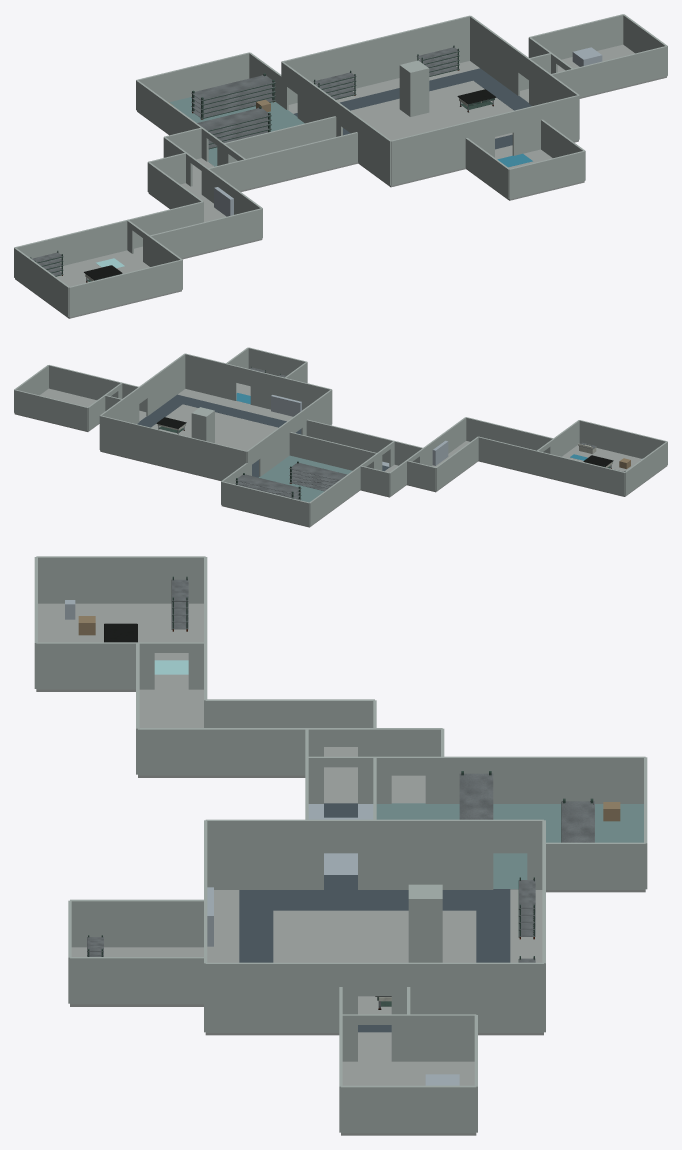
File: ResearchWing_Stage01_OpenTop.fbx
3 views of the same model, one above another, from view 1: azimuth 30°, elevation 25°; view 2: azimuth 150°, elevation 25°; view 3: azimuth 270°, elevation 25° (orthographic). The views are drawn at different scales.
Parts seen in each view (by area): view 1: Wall_z30_40_60, A4_Central_Floor, Wall_z0_0_12, Wall_z16_28_40, Wall_z10_40_48, Wall_z6_12_24, Wall_z18_64_74, Wall_z36_28_40, Wall_z10_0_12, Wall_z2_48_56, A3S_ShelfB, Wall_z26_64_74 (+34 smaller); view 2: Wall_z30_40_60, A4_Central_Floor, Wall_z36_28_40, Wall_z10_0_12, Wall_z20_28_40, Wall_z0_0_12, Wall_z26_64_74, Wall_z18_64_74, Wall_z16_28_40, Wall_z6_12_24, Wall_z10_12_20, Wall_x28_24_36 (+31 smaller); view 3: A4_Central_Floor, Wall_x60_10_18, Wall_x28_24_36, Wall_x60_22_30, Wall_x40_20_27, Wall_x0_0_10, Wall_x40_10_16, Wall_x74_18_26, Wall_x56_2_10, Wall_x48_2_10, A1_LAB01_Floor, F03_Carpet (+32 smaller).
Boxes of the visible parts, left/top/right/bottom form: Wall_z30_40_60: left=281, top=15, right=470, bottom=104; A4_Central_Floor: left=288, top=61, right=578, bottom=187; Wall_z0_0_12: left=69, top=260, right=182, bottom=317; Wall_z16_28_40: left=245, top=132, right=357, bottom=189; Wall_z10_40_48: left=391, top=122, right=466, bottom=185; Wall_z6_12_24: left=149, top=208, right=262, bottom=258; Wall_z18_64_74: left=573, top=46, right=667, bottom=97; Wall_z36_28_40: left=136, top=52, right=249, bottom=102; Wall_z10_0_12: left=14, top=220, right=127, bottom=265; Wall_z2_48_56: left=509, top=151, right=585, bottom=199; A3S_ShelfB: left=191, top=73, right=275, bottom=119; Wall_z26_64_74: left=529, top=14, right=623, bottom=59; Wall_z30_40_60: left=100, top=415, right=246, bottom=480; A4_Central_Floor: left=100, top=389, right=292, bottom=480; Wall_z36_28_40: left=221, top=481, right=309, bottom=526; Wall_z10_0_12: left=536, top=451, right=624, bottom=495; Wall_z20_28_40: left=289, top=432, right=376, bottom=470; Wall_z0_0_12: left=579, top=420, right=667, bottom=458; Wall_z26_64_74: left=14, top=389, right=87, bottom=430; Wall_z18_64_74: left=49, top=365, right=121, bottom=399; Wall_z16_28_40: left=306, top=419, right=394, bottom=462; Wall_z6_12_24: left=466, top=417, right=553, bottom=453; Wall_z10_12_20: left=478, top=436, right=536, bottom=474; Wall_x28_24_36: left=309, top=466, right=360, bottom=526; A4_Central_Floor: left=205, top=889, right=543, bottom=1035; Wall_x60_10_18: left=205, top=962, right=340, bottom=1032; Wall_x28_24_36: left=442, top=756, right=645, bottom=803; Wall_x60_22_30: left=408, top=962, right=543, bottom=1032; Wall_x40_20_27: left=375, top=819, right=493, bottom=889; Wall_x0_0_10: left=36, top=556, right=205, bottom=603; Wall_x40_10_16: left=205, top=819, right=306, bottom=889; Wall_x74_18_26: left=341, top=1085, right=476, bottom=1133; Wall_x56_2_10: left=70, top=957, right=203, bottom=1004; Wall_x48_2_10: left=70, top=899, right=203, bottom=947; A1_LAB01_Floor: left=36, top=603, right=203, bottom=691; F03_Carpet: left=376, top=803, right=643, bottom=889.
Bounding box in the file's own units: 74.2 × 4.7 × 36.2.
Materials: 23 (15 with a texture image).
